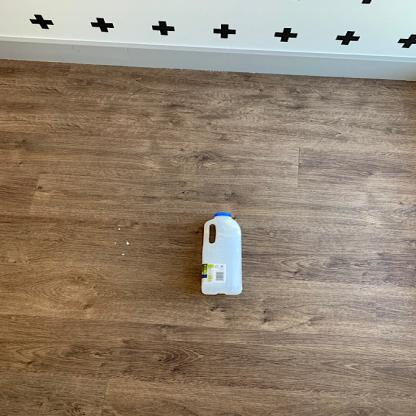trash: (196, 214, 245, 298)
